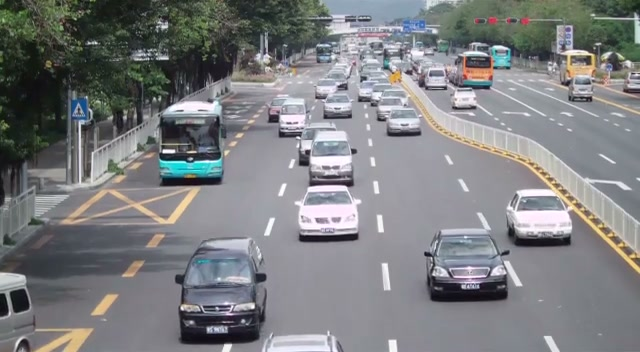bus: (157, 100, 226, 185), (449, 51, 494, 89)
car: (175, 236, 269, 342), (423, 228, 511, 301), (505, 188, 573, 245), (295, 185, 361, 241), (0, 271, 37, 352), (307, 131, 356, 187), (261, 332, 345, 352), (296, 126, 336, 166), (278, 100, 309, 138), (386, 108, 422, 137), (376, 92, 409, 121), (322, 92, 353, 119), (567, 75, 594, 102), (267, 95, 290, 123), (450, 87, 478, 109), (423, 68, 448, 90), (623, 71, 640, 93)
truck: (558, 50, 596, 86)
